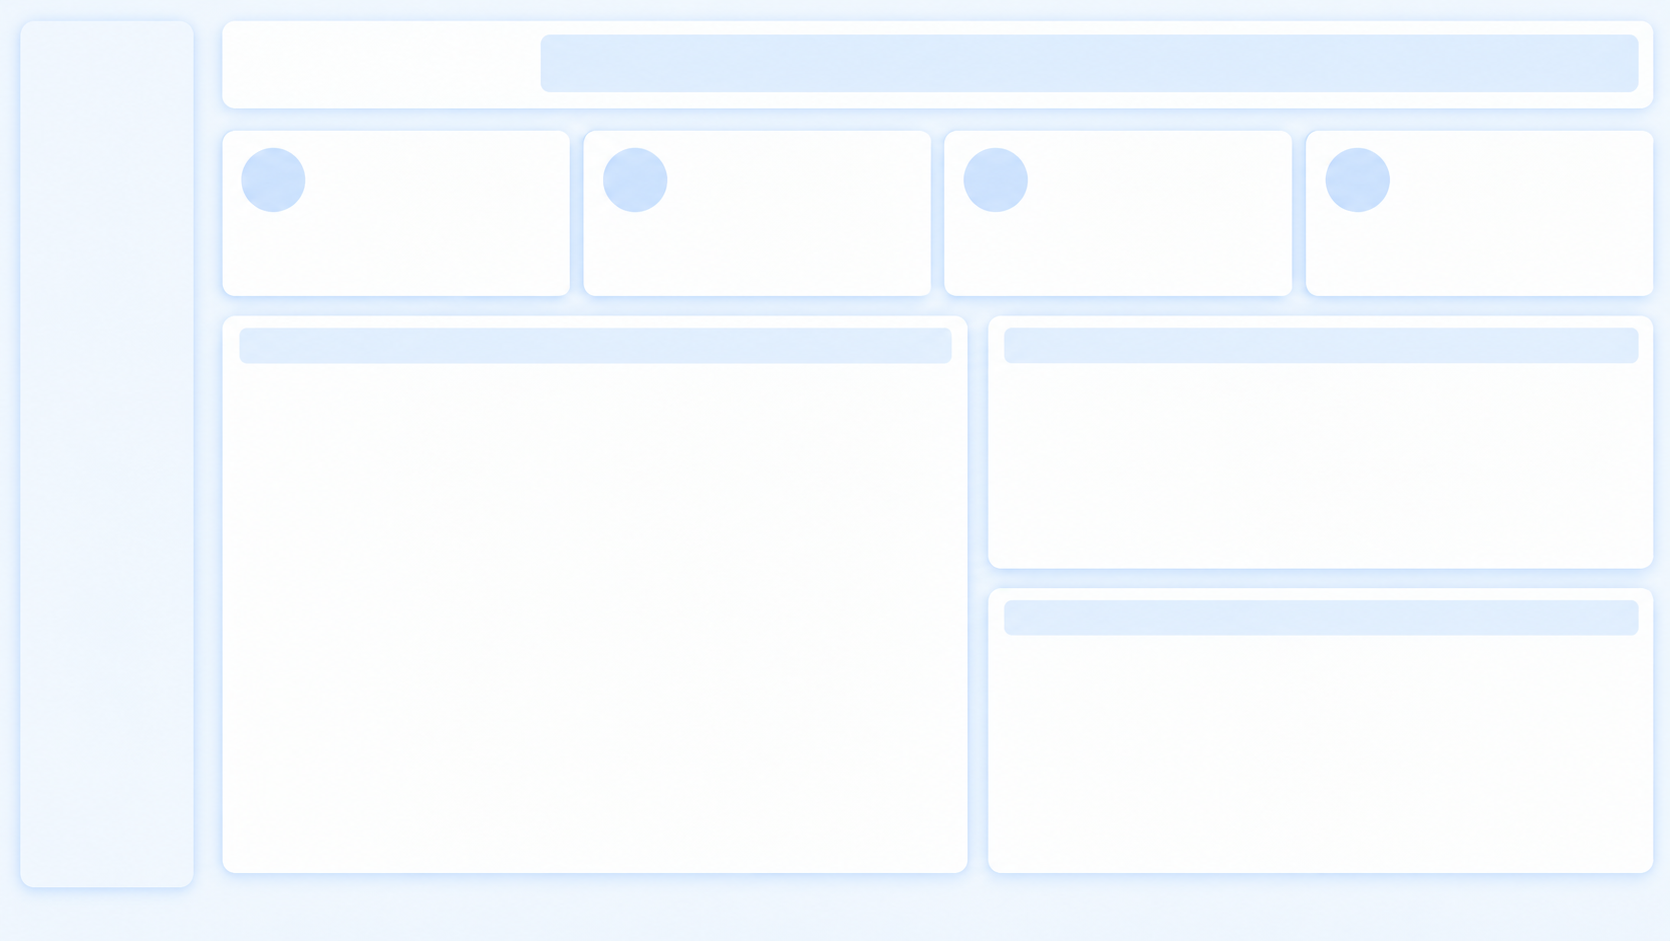

The dashboard page shown, as its layout file describes it:
{"tool":"powerbi","page":{"name":"Página 1","canvas":[1920,1080],"ordinal":0},"visuals":[{"type":"shape","box":[320,27.5,357.5,102.5],"z":0},{"type":"slicer","fields":{"Values":["Dim_Calendario.Año"]},"box":[561.4,438,224,98],"z":0,"group":"g1"},{"type":"shape","box":[18,22,257.7,1034.4],"z":1000},{"type":"cardVisual","fields":{"Data":["Medidas_Utilidad.Suma_Utilidad_Dinamico"]},"box":[736.3,180,278,121],"z":1000,"group":"g3"},{"type":"cardVisual","fields":{"Data":["Medidas_Margen_%.Margen %"]},"box":[1145.5,182.4,278,121],"z":1000,"group":"g4"},{"type":"cardVisual","fields":{"Data":["Medidas_Ticket_Promedio.Ticket Promedio"]},"box":[1525.5,182.4,278,121],"z":1000,"group":"g5"},{"type":"cardVisual","fields":{"Data":["Medidas.Suma_VentNeta_Dinamico"]},"box":[394.4,189.7,282.2,120],"z":1000,"group":"g2"},{"type":"slicer","fields":{"Values":["Dim_Ubicación.Mercado"]},"box":[563.4,556,222,98],"z":1000,"group":"g1"},{"type":"shape","box":[702.5,25,1117.5,105],"z":2000},{"type":"textbox","title":"Utilidad","box":[693.8,158.8,315,48.5],"z":2000,"group":"g3"},{"type":"textbox","title":"Margen %","box":[1103,161.2,315,48.5],"z":2000,"group":"g4"},{"type":"textbox","title":"Ticket Promedio","box":[1483,161.2,315,48.5],"z":2000,"group":"g5"},{"type":"textbox","title":"Venta Neta","box":[344.5,167.5,268.4,48.6],"z":2000,"group":"g2"},{"type":"shape","box":[394,372,740,707.5],"z":3000},{"type":"slicer","fields":{"Values":["Dim_Categoria.Departamento"]},"box":[565.7,669.7,222,98],"z":3000,"group":"g1"},{"type":"image","box":[62.6,58.9,176.7,90.2],"z":4000},{"type":"slicer","fields":{"Values":["Dim_Envio.Modo de envío"]},"box":[565.4,792,222,98],"z":4000,"group":"g1"},{"type":"shape","box":[28,398,222.7,71.8],"z":5000,"group":"g6"},{"type":"group","id":"g1","title":"Grupo 2","box":[561.4,438,228.2,450.9],"z":5000},{"type":"group","id":"g2","title":"Grupo 3","box":[344.5,167.5,332.2,170],"z":6000},{"type":"shape","box":[28.7,462,222,72],"z":6000,"group":"g6"},{"type":"group","id":"g3","title":"Grupo 1","box":[693.8,158.8,320.5,170.5],"z":7000},{"type":"shape","box":[30.5,533.7,220.9,71.8],"z":7000,"group":"g6"},{"type":"image","box":[375,7.5,247.5,142.5],"z":8000},{"type":"group","id":"g4","title":"Grupo 1","box":[1103,161.2,320.5,170.9],"z":9000},{"type":"pivotTable","fields":{"Rows":["Dim_Categoria.Departamento","Dim_Producto.Producto"],"Columns":["Dim_Envio.Modo de envío"],"Values":["Sum(Fact_Ventas_Envios.Cantidad)"]},"box":[404,374,700,666],"z":10000},{"type":"clusteredBarChart","fields":{"Category":["Fact_Ventas_Envios.Tipo de pago"],"Y":["Sum(Fact_Ventas_Envios.Venta neta)"]},"box":[1070,363.3,750,343.3],"z":11000},{"type":"group","id":"g5","title":"Grupo 1","box":[1483,161.2,320.5,170.9],"z":12000},{"type":"pieChart","fields":{"Category":["Dim_Cliente.Segmento de cliente"],"Y":["Sum(Fact_Ventas_Envios.Venta neta)"]},"box":[1070,722.5,750,337.5],"z":13000},{"type":"image","box":[25.8,154.6,250.3,95.7],"z":14000},{"type":"actionButton","box":[391.7,279.2,246.7,58.3],"z":14000,"group":"g2"},{"type":"actionButton","box":[739.7,272.2,218.6,57.1],"z":15000,"group":"g3"},{"type":"actionButton","box":[1174.2,275,181.4,57.1],"z":15000,"group":"g4"},{"type":"actionButton","box":[1554.2,275,181.4,57.1],"z":15000,"group":"g5"},{"type":"group","id":"g6","title":"Grupo 5","box":[28,398,222,208],"z":15000}]}

Visuals, with their boxes in screenshot pixels (x1, y1, x2, y2), scaled from the page's 1920x1080 canvas onto the 1670x941 screenshot:
shape: locate(278, 24, 589, 113)
slicer - Dim_Calendario.Año: locate(488, 382, 683, 467)
shape: locate(16, 19, 240, 920)
cardVisual - Medidas_Utilidad.Suma_Utilidad_Dinamico: locate(640, 157, 882, 262)
cardVisual - Medidas_Margen_%.Margen %: locate(996, 159, 1238, 264)
cardVisual - Medidas_Ticket_Promedio.Ticket Promedio: locate(1327, 159, 1569, 264)
cardVisual - Medidas.Suma_VentNeta_Dinamico: locate(343, 165, 589, 270)
slicer - Dim_Ubicación.Mercado: locate(490, 484, 683, 570)
shape: locate(611, 22, 1583, 113)
"Utilidad" textbox: locate(603, 138, 877, 181)
"Margen %" textbox: locate(959, 140, 1233, 183)
"Ticket Promedio" textbox: locate(1290, 140, 1564, 183)
"Venta Neta" textbox: locate(300, 146, 533, 188)
shape: locate(343, 324, 986, 940)
slicer - Dim_Categoria.Departamento: locate(492, 584, 685, 669)
image: locate(54, 51, 208, 130)
slicer - Dim_Envio.Modo de envío: locate(492, 690, 685, 775)
shape: locate(24, 347, 218, 409)
"Grupo 2" group: locate(488, 382, 687, 774)
"Grupo 3" group: locate(300, 146, 589, 294)
shape: locate(25, 403, 218, 465)
"Grupo 1" group: locate(603, 138, 882, 287)
shape: locate(27, 465, 219, 528)
image: locate(326, 7, 541, 131)
"Grupo 1" group: locate(959, 140, 1238, 289)
pivotTable - Dim_Categoria.Departamento x Dim_Producto.Producto: locate(351, 326, 960, 906)
clusteredBarChart - Fact_Ventas_Envios.Tipo de pago x Sum(Fact_Ventas_Envios.Venta neta): locate(931, 317, 1583, 616)
"Grupo 1" group: locate(1290, 140, 1569, 289)
pieChart - Dim_Cliente.Segmento de cliente x Sum(Fact_Ventas_Envios.Venta neta): locate(931, 630, 1583, 924)
image: locate(22, 135, 240, 218)
actionButton: locate(341, 243, 555, 294)
actionButton: locate(643, 237, 834, 287)
actionButton: locate(1021, 240, 1179, 289)
actionButton: locate(1352, 240, 1510, 289)
"Grupo 5" group: locate(24, 347, 217, 528)
